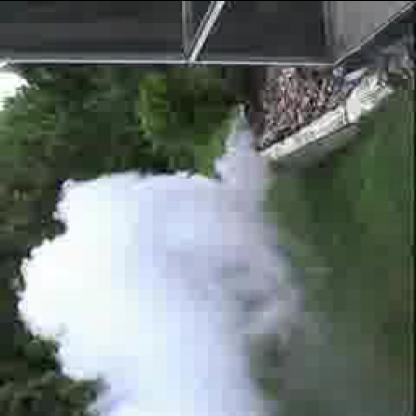Smoke: (16, 147, 304, 415)
